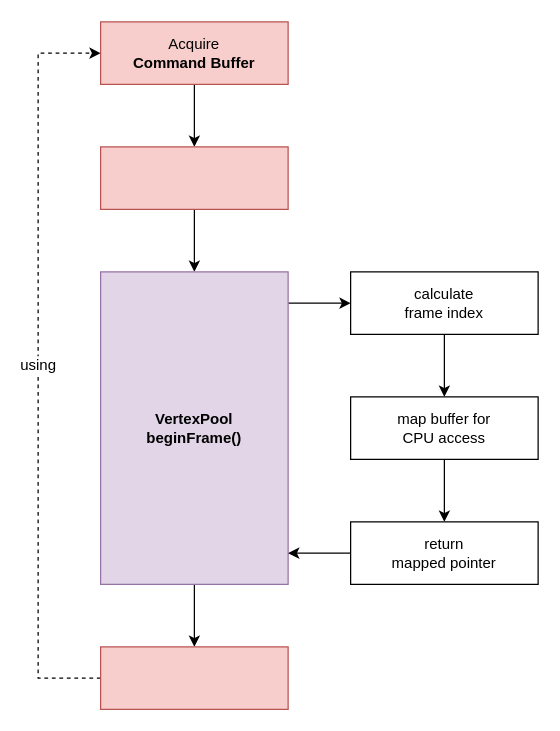
This 560x731 diagram has some shape labels left out. The box of each missing label's shape, as (x1, y1, x2, y2) in pixels:
Begin Copy Pass: (99, 646, 288, 709)
Wait and Acquire Swapchain Texture: (99, 146, 288, 209)
